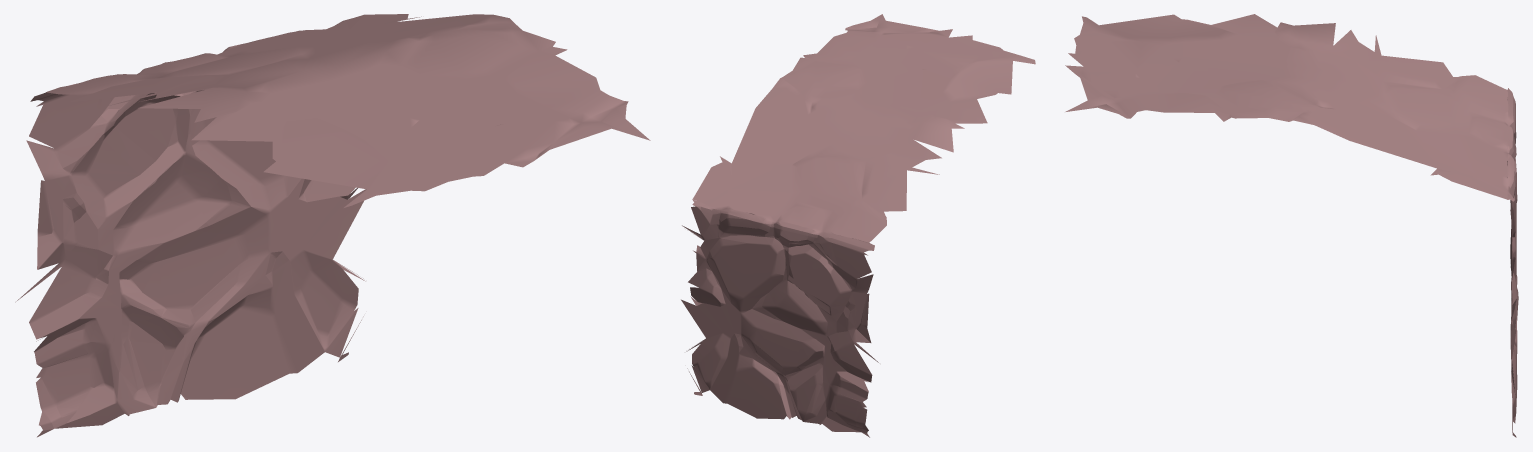
Rendered from plateau.fbx_Rock_Plateau_019LODs.fbx.
3 renders of one model, left to right at view 1: azimuth 30°, elevation 25°; view 2: azimuth 150°, elevation 25°; view 3: azimuth 270°, elevation 25°, orthographic. The views are drawn at different scales.
Visible parts, largest first — view 1: Rock Plateau.019_LOD0; view 2: Rock Plateau.019_LOD0; view 3: Rock Plateau.019_LOD0.
Boxes of the visible parts, <box> form: Rock Plateau.019_LOD0: <box>15,14,650,437</box>; Rock Plateau.019_LOD0: <box>681,14,1035,437</box>; Rock Plateau.019_LOD0: <box>1065,14,1518,437</box>.
Size of what is drawn, in the model's own units: 3262 by 3969 by 4856.
